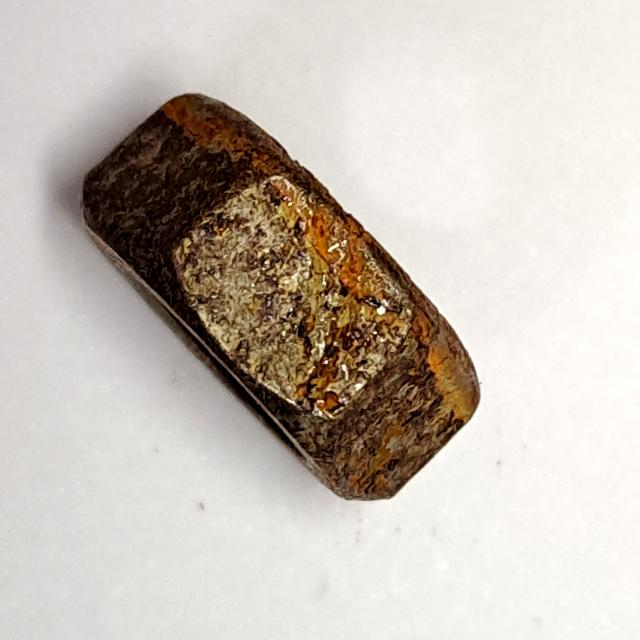Side_Rust: (70, 81, 492, 517)
